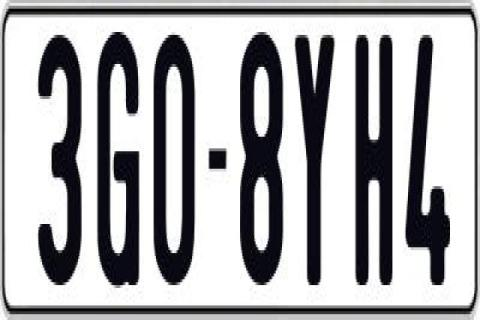0: (236, 27, 284, 297), (35, 29, 83, 297), (406, 32, 452, 296), (150, 27, 196, 280)
G: (96, 23, 142, 280)
H: (352, 35, 390, 288)
Y: (296, 35, 340, 288)
